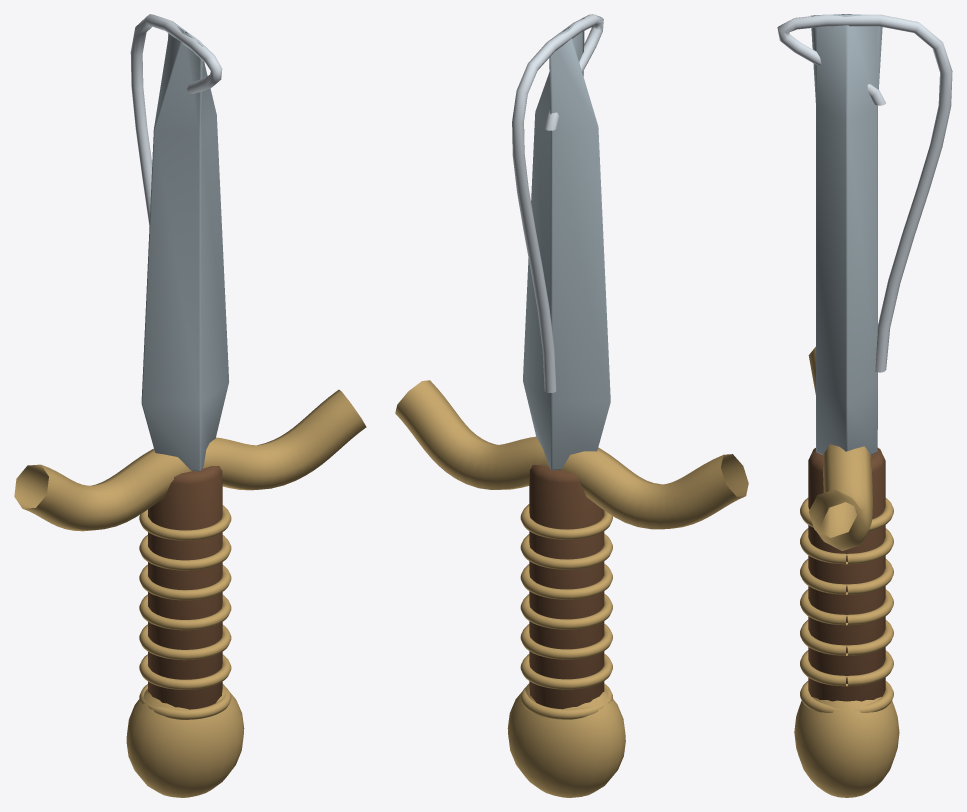
The model's file is twin_daggers.glb.
3 renders of one model, left to right at view 1: azimuth 30°, elevation 25°; view 2: azimuth 150°, elevation 25°; view 3: azimuth 270°, elevation 25°, orthographic. The views are drawn at different scales.
Visible parts, largest first — view 1: Tempered diamond edge, Swept quillons, Leather grip, Pommel, Inlaid fuller, Bound grip.001, Bound grip.002, Bound grip.005, Bound grip.003, Bound grip.004, Bound grip.006, Bound grip; view 2: Tempered diamond edge, Swept quillons, Leather grip, Pommel, Inlaid fuller, Bound grip.004, Bound grip.005, Bound grip.001, Bound grip.003, Bound grip.002, Bound grip.006, Bound grip; view 3: Tempered diamond edge, Leather grip, Pommel, Inlaid fuller, Swept quillons, Bound grip.005, Bound grip.003, Bound grip.001, Bound grip.002, Bound grip.004, Bound grip, Bound grip.006.
Part boxes in pixels (x1=…): Tempered diamond edge: x1=141, y1=25, x2=229, y2=471; Swept quillons: x1=14, y1=389, x2=366, y2=531; Leather grip: x1=148, y1=466, x2=222, y2=709; Pommel: x1=126, y1=684, x2=244, y2=797; Inlaid fuller: x1=130, y1=14, x2=222, y2=225; Bound grip.001: x1=139, y1=654, x2=231, y2=689; Bound grip.002: x1=139, y1=624, x2=231, y2=660; Bound grip.005: x1=139, y1=535, x2=231, y2=570; Bound grip.003: x1=139, y1=594, x2=231, y2=630; Bound grip.004: x1=139, y1=564, x2=231, y2=600; Bound grip.006: x1=139, y1=505, x2=231, y2=540; Bound grip: x1=139, y1=684, x2=231, y2=719; Tempered diamond edge: x1=523, y1=17, x2=610, y2=470; Swept quillons: x1=395, y1=380, x2=748, y2=529; Leather grip: x1=529, y1=465, x2=604, y2=709; Pommel: x1=507, y1=683, x2=625, y2=797; Inlaid fuller: x1=512, y1=14, x2=603, y2=392; Bound grip.004: x1=520, y1=564, x2=612, y2=599; Bound grip.005: x1=520, y1=534, x2=612, y2=569; Bound grip.001: x1=520, y1=654, x2=612, y2=689; Bound grip.003: x1=520, y1=594, x2=612, y2=629; Bound grip.002: x1=520, y1=624, x2=612, y2=659; Bound grip.006: x1=520, y1=504, x2=612, y2=539; Bound grip: x1=520, y1=684, x2=612, y2=719; Tempered diamond edge: x1=811, y1=14, x2=882, y2=454; Leather grip: x1=808, y1=448, x2=885, y2=701; Pommel: x1=794, y1=697, x2=899, y2=797; Inlaid fuller: x1=777, y1=14, x2=952, y2=372; Swept quillons: x1=808, y1=346, x2=872, y2=550; Bound grip.005: x1=800, y1=528, x2=893, y2=564; Bound grip.003: x1=800, y1=589, x2=893, y2=625; Bound grip.001: x1=800, y1=650, x2=893, y2=686; Bound grip.002: x1=800, y1=620, x2=893, y2=655; Bound grip.004: x1=800, y1=559, x2=893, y2=594; Bound grip: x1=800, y1=681, x2=893, y2=712; Bound grip.006: x1=800, y1=498, x2=893, y2=531.
Size of the model in its own units: 0.5744 by 1.22 by 0.2497.
